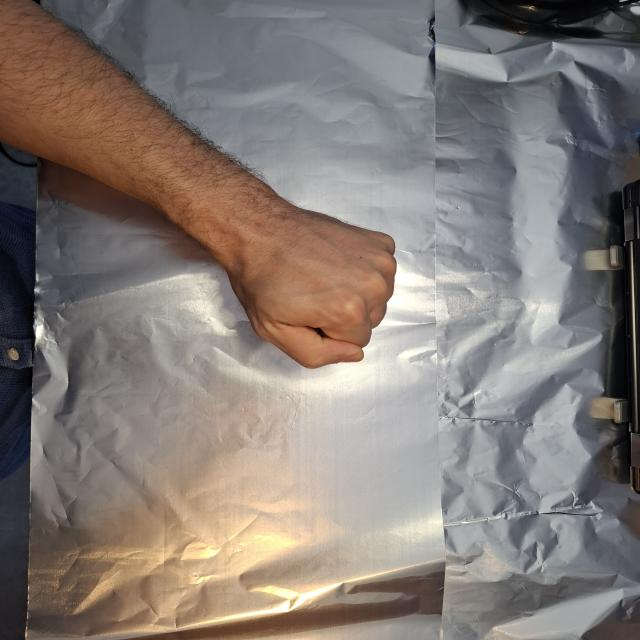glove_off: (202, 194, 400, 370)
